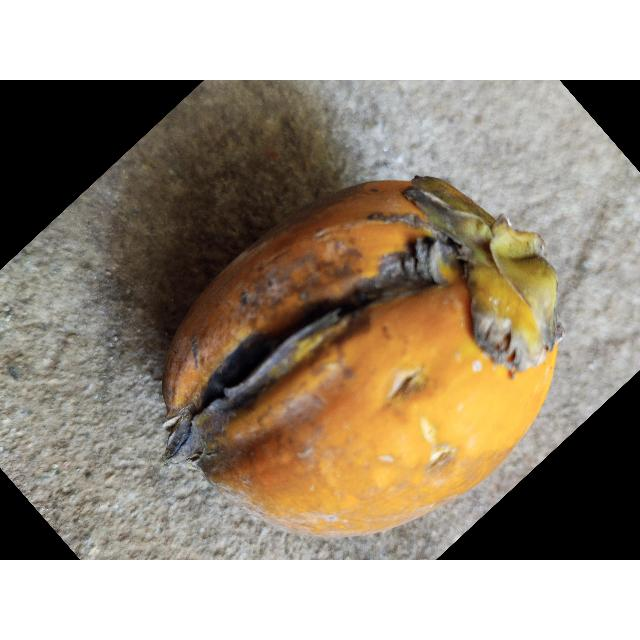damaged: (162, 177, 562, 536)
